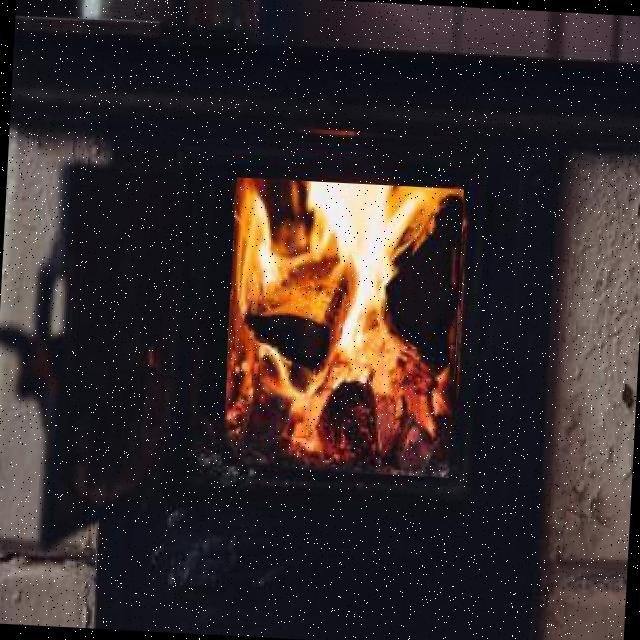fire: (221, 177, 464, 478)
